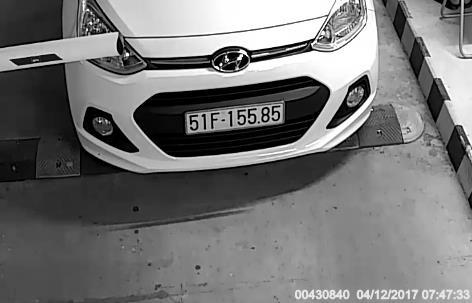License-plate: (180, 98, 294, 138)
